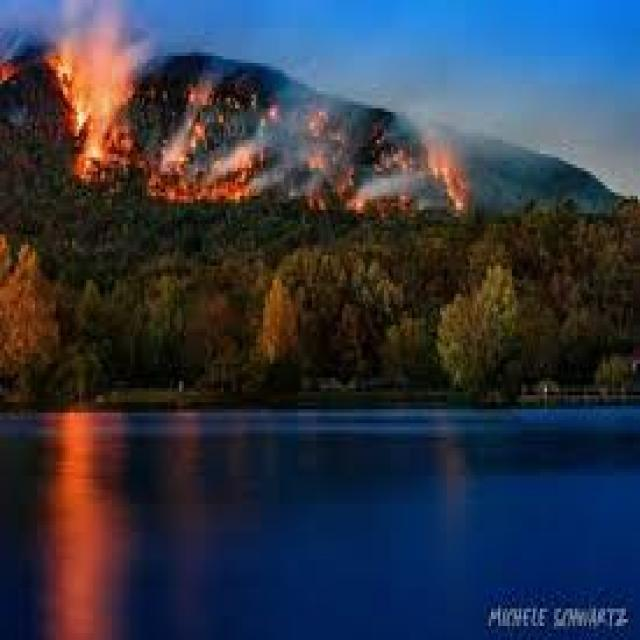Fire: (52, 56, 124, 182), (140, 154, 252, 208), (434, 150, 466, 217), (0, 60, 13, 86)
Smoke: (380, 73, 550, 215), (5, 3, 147, 108), (225, 88, 352, 200), (153, 64, 230, 172), (342, 164, 437, 219)
